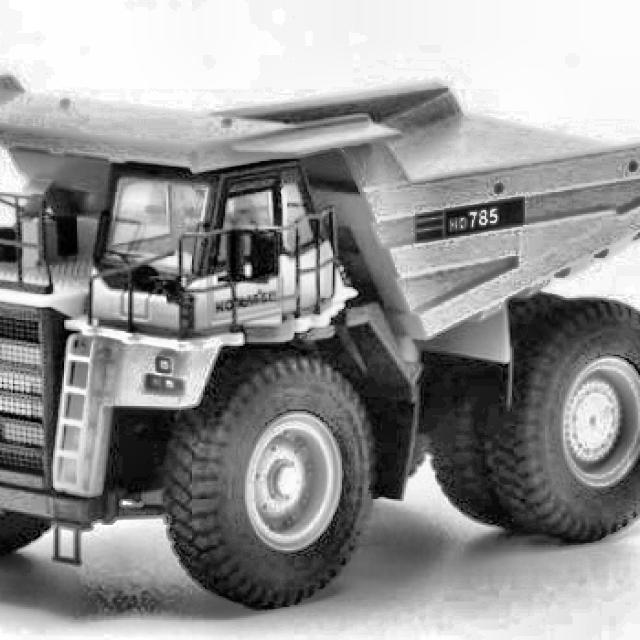dump_truck: (0, 66, 640, 618)
